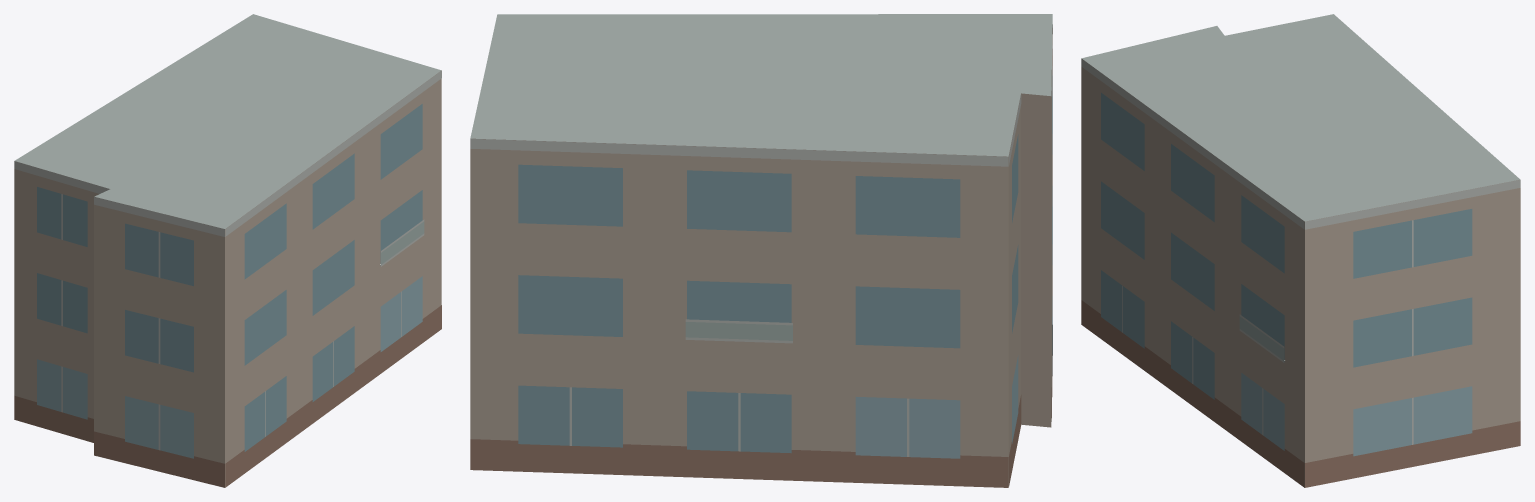
The model's file is survey-upis-32892000.glb.
3 views of the same model, side by side, from view 1: azimuth 30°, elevation 25°; view 2: azimuth 150°, elevation 25°; view 3: azimuth 270°, elevation 25° (orthographic). The views are drawn at different scales.
Parts seen in each view (by area): view 1: survey-upis-32892000.tmp; view 2: survey-upis-32892000.tmp; view 3: survey-upis-32892000.tmp.
Boxes of the visible parts, box(x1,y1,x2,y2) form: survey-upis-32892000.tmp: box(14, 14, 441, 487); survey-upis-32892000.tmp: box(470, 14, 1052, 487); survey-upis-32892000.tmp: box(1081, 14, 1520, 487).
Size of the model in its own units: 13.22 by 7.9 by 11.82.
